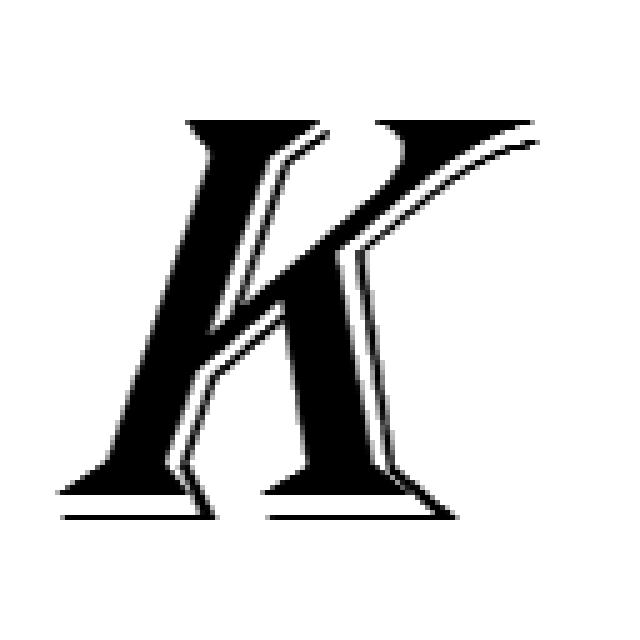K: (85, 116, 532, 529)
